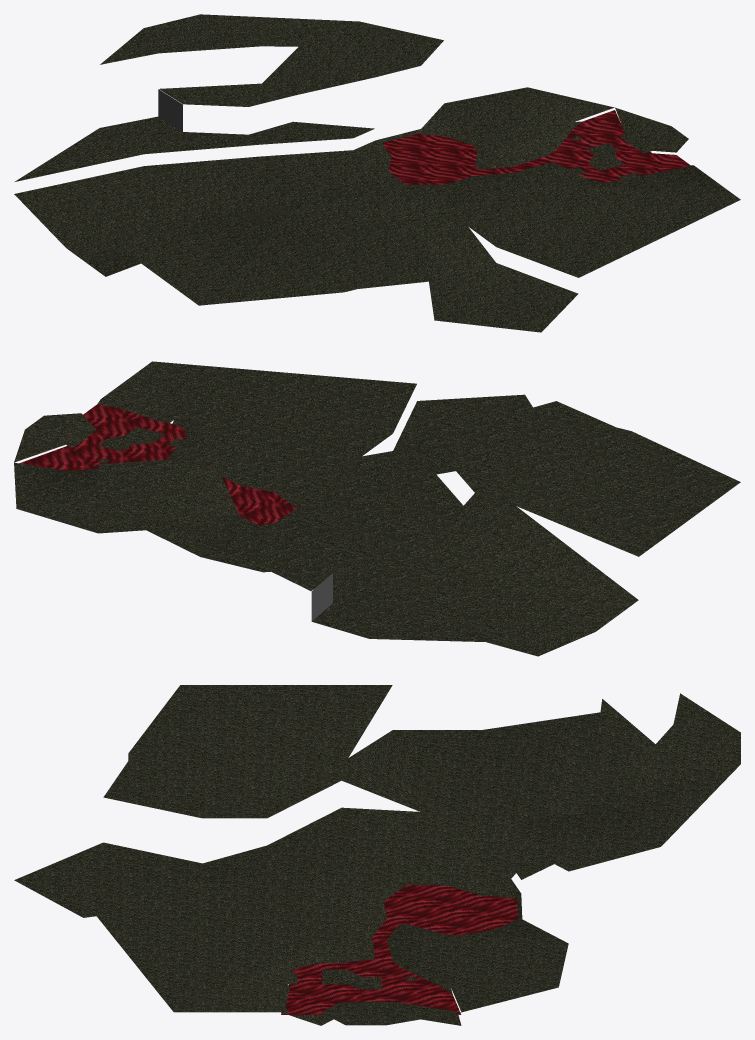
Rendered from demoKF.obj.
3 renders of one model, top to bottom at view 1: azimuth 30°, elevation 25°; view 2: azimuth 150°, elevation 25°; view 3: azimuth 270°, elevation 25°, orthographic. The views are drawn at different scales.
Visible parts, largest first — view 1: ground, bloodwater, climbwall; view 2: ground, bloodwater, climbwall; view 3: ground, bloodwater.
Boxes of the visible parts, <box> form: ground: <box>14,14,740,332</box>; bloodwater: <box>382,110,689,184</box>; climbwall: <box>158,89,182,131</box>; ground: <box>14,361,740,656</box>; bloodwater: <box>19,404,296,525</box>; climbwall: <box>311,573,332,620</box>; ground: <box>14,685,740,1025</box>; bloodwater: <box>281,885,517,1014</box>.
Bounding box in the file's own units: 2989 × 460 × 2929.
Materials: 3 (2 with a texture image).
